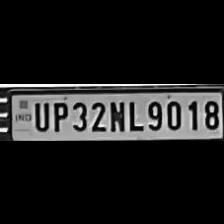0: (164, 97, 182, 129)
1: (183, 97, 199, 130)
2: (88, 97, 106, 131)
3: (69, 98, 87, 132)
8: (201, 96, 219, 130)
9: (143, 96, 163, 130)
L: (125, 96, 142, 132)
N: (108, 97, 126, 132)
P: (50, 97, 68, 131)
U: (31, 98, 49, 132)
